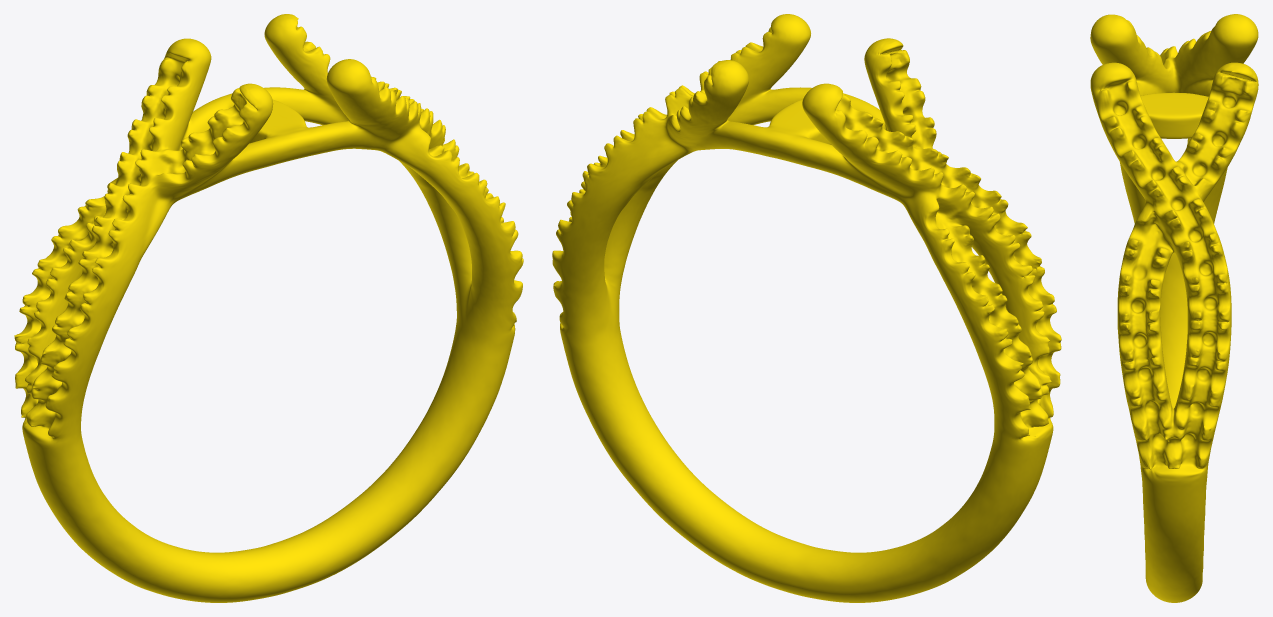
File: Shank_Twist_U Prong_B_No, Hidden Halo_Band.glb
3 views of the same model, side by side, from view 1: azimuth 30°, elevation 25°; view 2: azimuth 150°, elevation 25°; view 3: azimuth 270°, elevation 25° (orthographic).
Bounding box in the file's own units: 0.0213 × 0.0228 × 0.00649.
